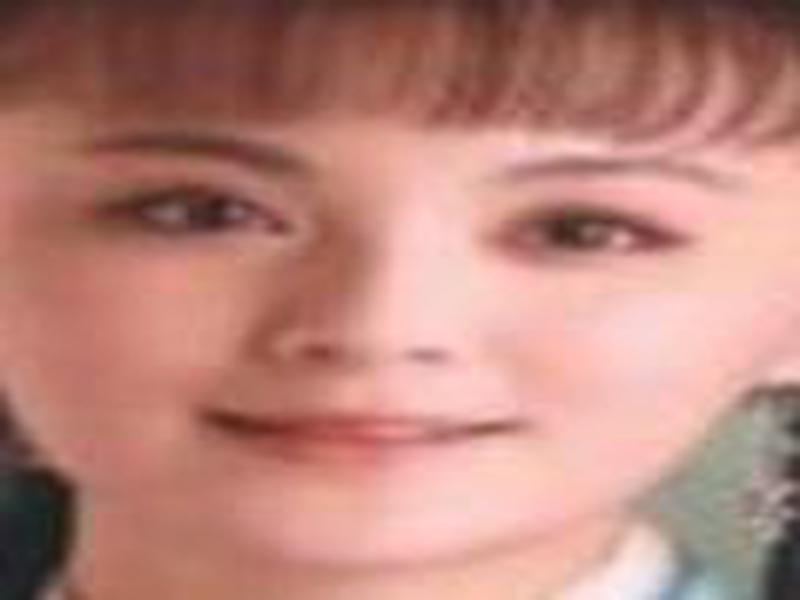without_mask: (12, 93, 787, 563)
